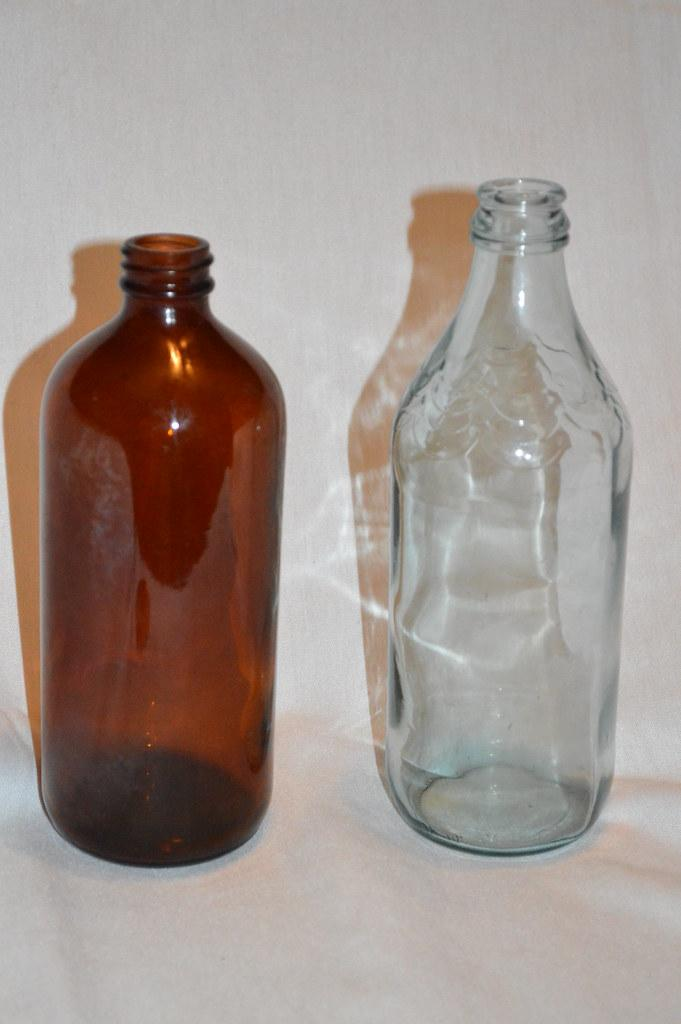bottle: (384, 176, 635, 857), (37, 232, 287, 868)
